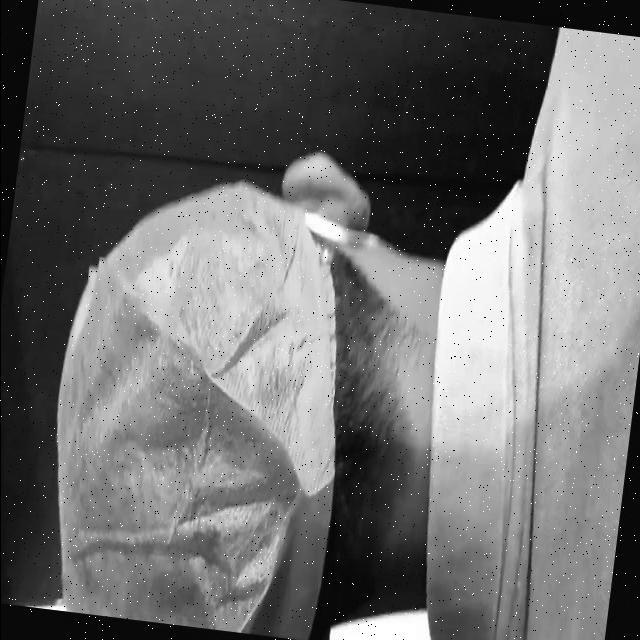gloves: (54, 220, 468, 640)
